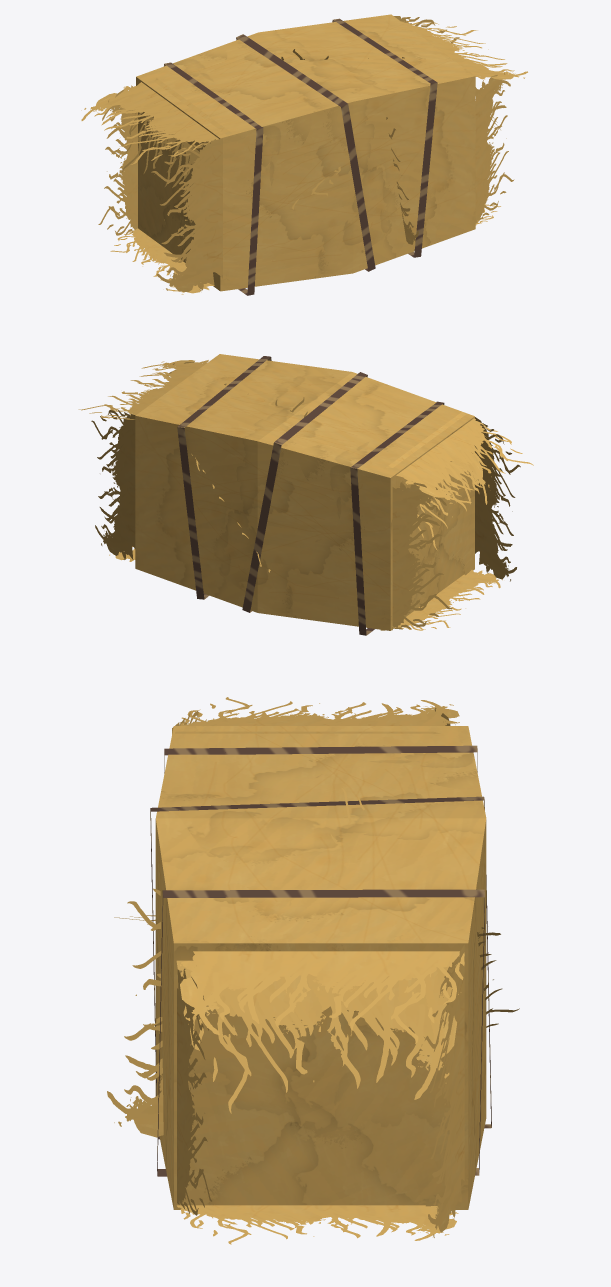
The model's file is Haybale.fbx.
The picture shows the model from 3 angles, top to bottom: view 1: azimuth 30°, elevation 25°; view 2: azimuth 150°, elevation 25°; view 3: azimuth 270°, elevation 25°; orthographic projection. The views are drawn at different scales.
Parts seen in each view (by area): view 1: bale; view 2: bale; view 3: bale.
Boxes of the visible parts, x1=… form: bale: x1=81, y1=14, x2=527, y2=295; bale: x1=78, y1=354, x2=533, y2=635; bale: x1=107, y1=697, x2=519, y2=1244.
Bounding box in the file's own units: 341 × 145 × 192.
Materials: 1 (1 with a texture image).
